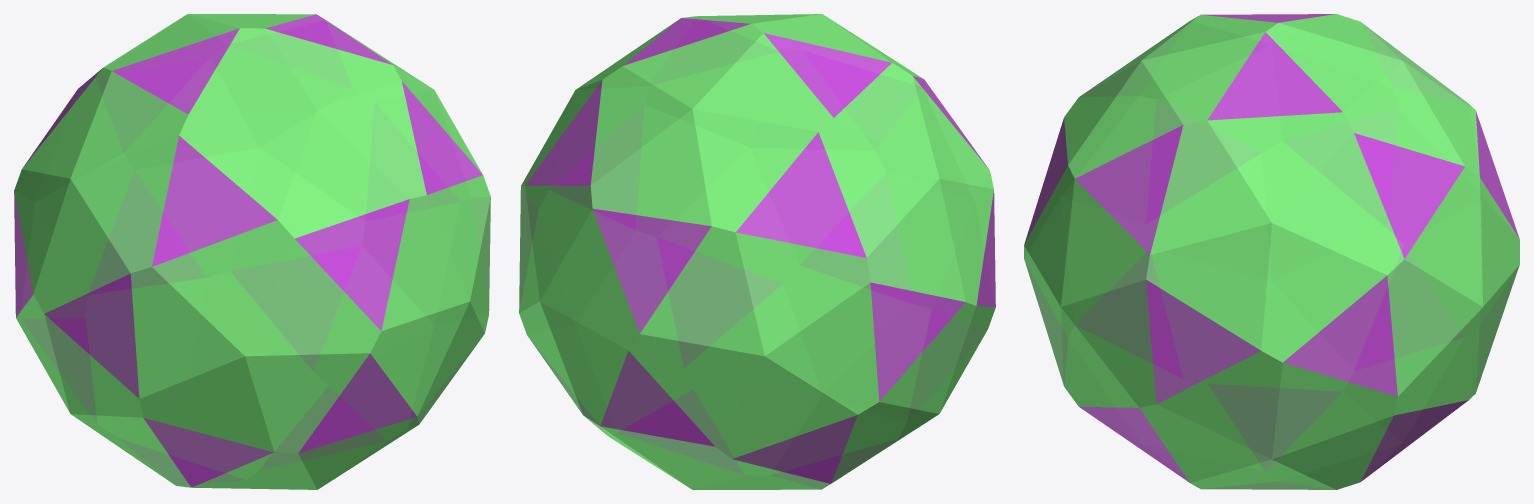
The model's file is BiscribedPropelloIcosahedron.obj.
3 views of the same model, side by side, from view 1: azimuth 30°, elevation 25°; view 2: azimuth 150°, elevation 25°; view 3: azimuth 270°, elevation 25° (orthographic).
Bounding box in the file's own units: 2 × 2 × 2.
